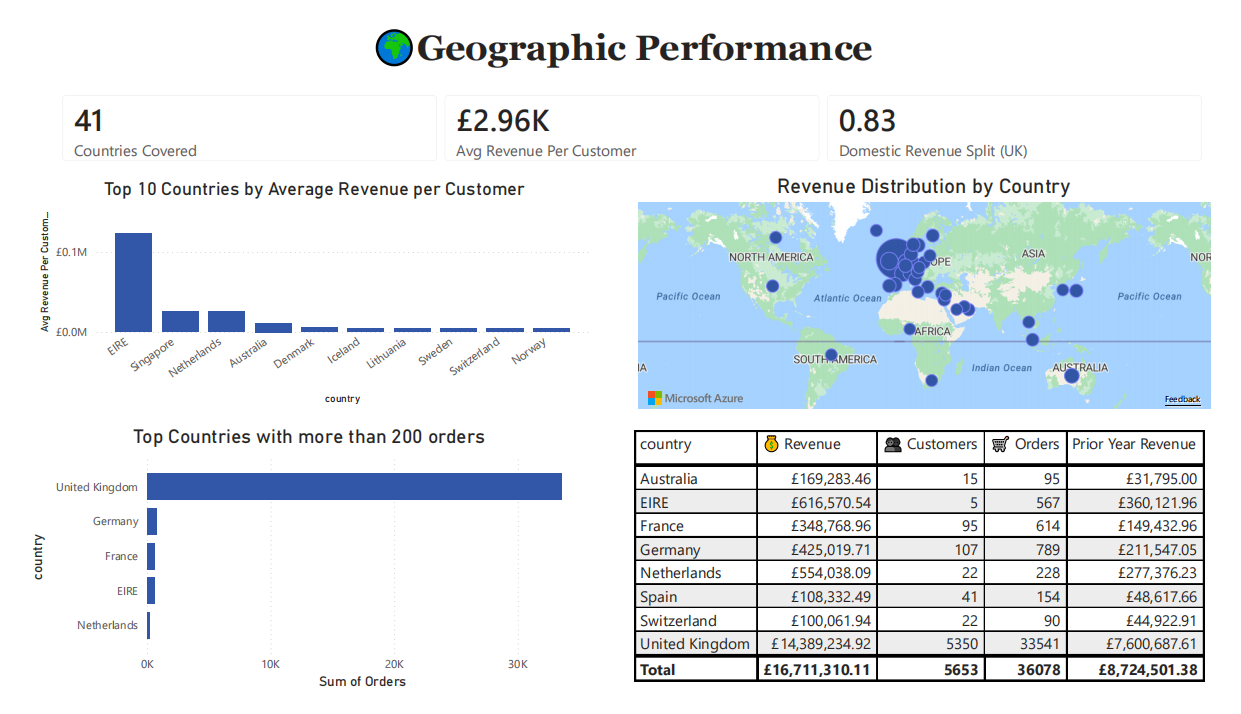

This screenshot's page, from the dashboard's own definition file:
{"tool":"powerbi","page":{"name":"Geographic  Performance","canvas":[1280,720],"ordinal":4},"visuals":[{"type":"textbox","box":[359.5,0,580.7,65.1],"z":0},{"type":"azureMap","title":" Revenue  Distribution by Country","fields":{"Category":["fact_transactions.country"],"Size":["Calendar.💰 Revenue"]},"box":[651.1,165.6,615.6,253.3],"z":1000},{"type":"clusteredBarChart","title":"Top Countries with more than 200 orders","fields":{"Category":["Revenue by Country.country"],"Y":["Sum(Revenue by Country.Orders)"]},"box":[6.7,432.2,602.2,283.3],"z":2000},{"type":"cardVisual","fields":{"Data":["Calendar.Countries Covered","Calendar.Avg Revenue Per Customer","Calendar.Domestic Revenue Split (UK)"]},"box":[29.3,65.1,1242.7,104.1],"z":3000},{"type":"clusteredColumnChart","title":"Top 10 Countries by Average Revenue per Customer","fields":{"Category":["fact_transactions.country"],"Y":["Calendar.Avg Revenue Per Customer"]},"box":[17.8,170,591.1,244.4],"z":4000},{"type":"tableEx","fields":{"Values":["fact_transactions.country","Calendar.💰 Revenue","Calendar.👥 Customers","Calendar.🛒 Orders","Calendar.Prior Year Revenue"]},"box":[646,431.7,633.3,284.1],"z":5000}]}

Visuals, with their boxes in screenshot pixels (x1, y1, x2, y2), scaled from the page's 1280x720 canvas onto the 1241x714 screenshot:
textbox: pyautogui.locateOnScreen(349, 0, 912, 65)
" Revenue  Distribution by Country" azureMap: pyautogui.locateOnScreen(631, 164, 1228, 415)
"Top Countries with more than 200 orders" clusteredBarChart: pyautogui.locateOnScreen(6, 429, 590, 710)
cardVisual - Calendar.Countries Covered x Calendar.Avg Revenue Per Customer: pyautogui.locateOnScreen(28, 65, 1233, 168)
"Top 10 Countries by Average Revenue per Customer" clusteredColumnChart: pyautogui.locateOnScreen(17, 169, 590, 411)
tableEx - fact_transactions.country x Calendar.💰 Revenue: pyautogui.locateOnScreen(626, 428, 1240, 710)
